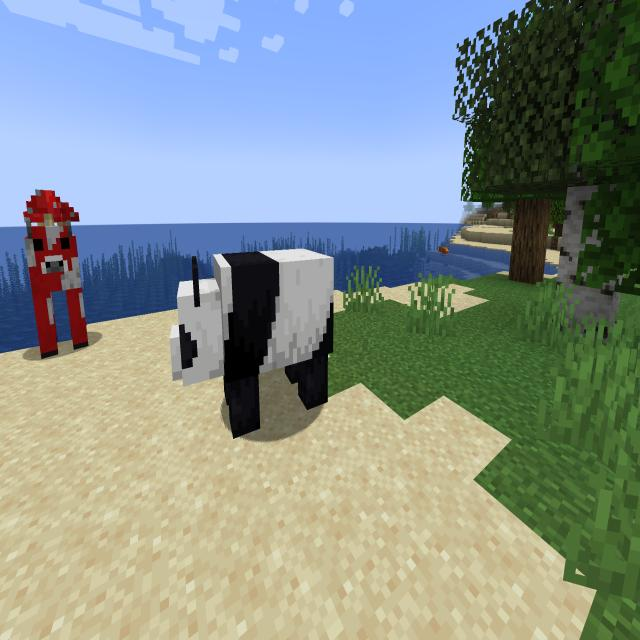Mooshroom: (14, 174, 100, 376), (436, 246, 452, 258)
Panda: (161, 241, 339, 439)
